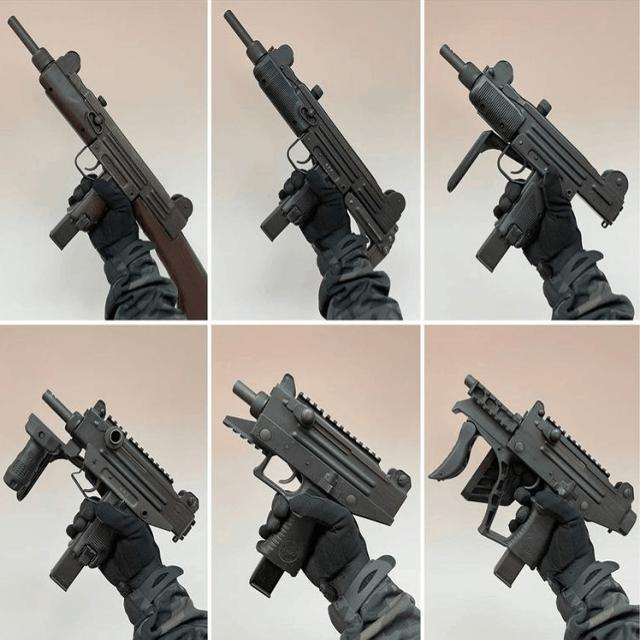SMG: (223, 11, 406, 257), (439, 45, 629, 274), (8, 16, 193, 251), (223, 374, 412, 599), (429, 374, 637, 572), (3, 390, 199, 576)
